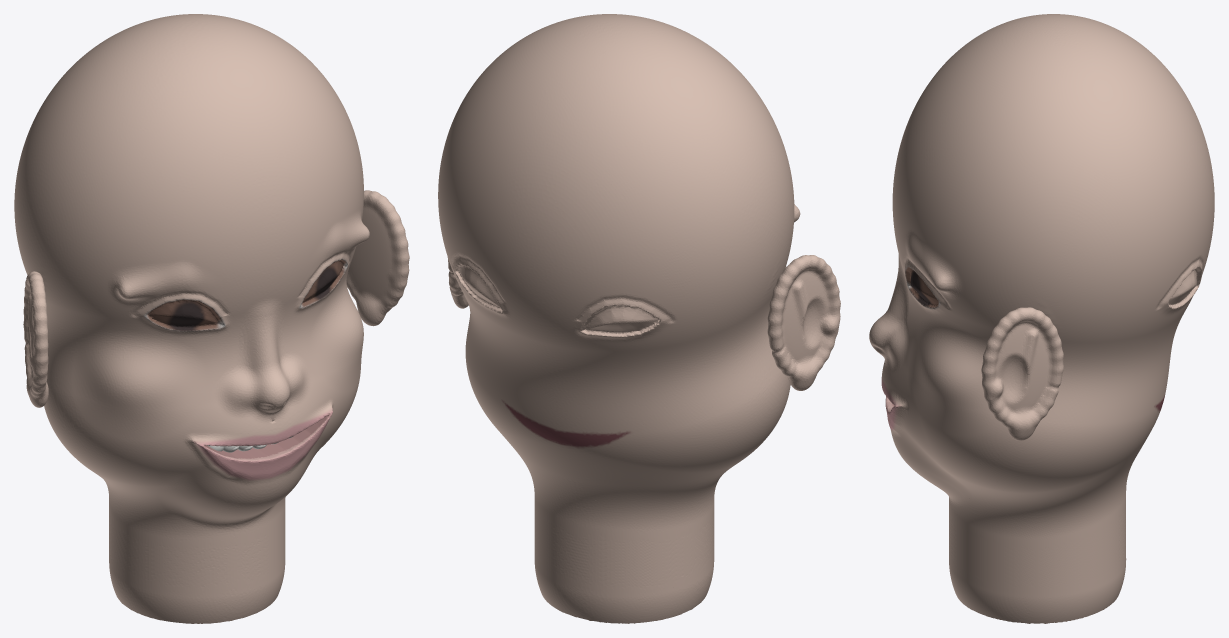
The model's file is karma_face_stage1_G_smile_EXPERIMENT.glb.
3 views of the same model, side by side, from view 1: azimuth 30°, elevation 25°; view 2: azimuth 150°, elevation 25°; view 3: azimuth 270°, elevation 25° (orthographic).
Visible parts, largest first — view 1: head; view 2: head; view 3: head.
Part boxes in pixels (x1,y1,x2,y2): head: (14,14,409,623); head: (438,14,840,623); head: (869,14,1214,623).
Size of the model in its own units: 2.7 by 3.83 by 2.15.
